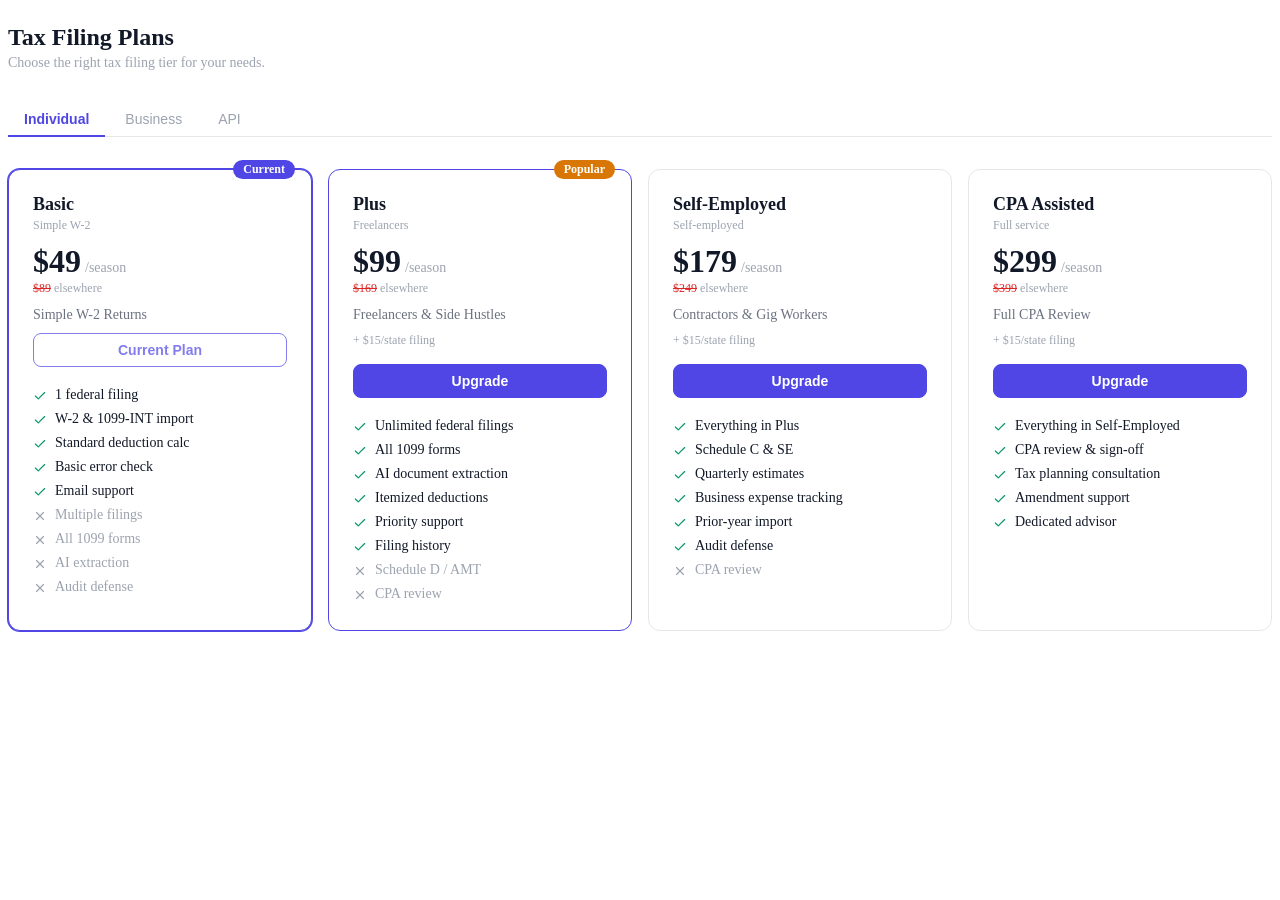
Test case: TaxPricingPage › switches to API tab
Click the tab "API": (230, 120) [202,103,257,137]
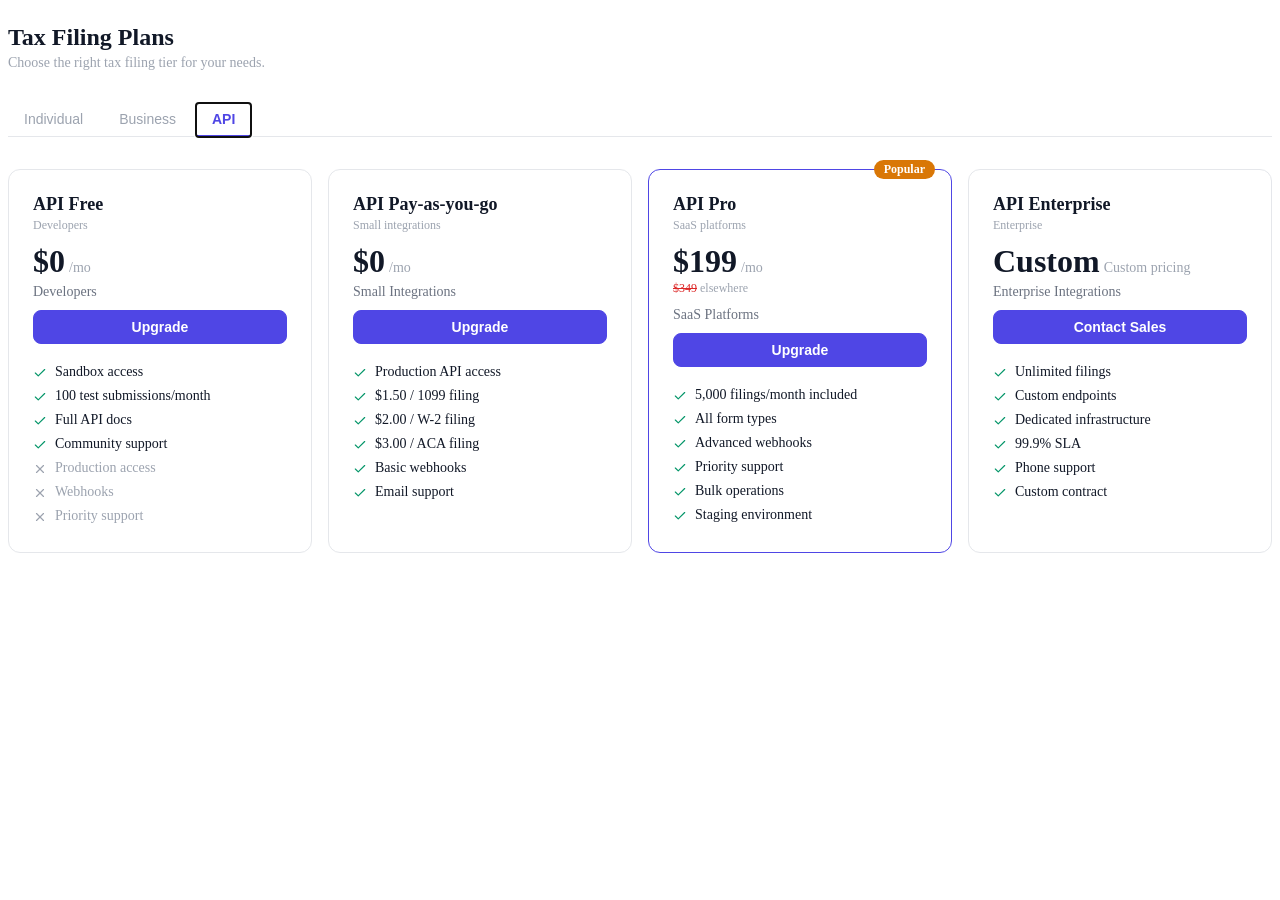
Now the heading "API Free" is shown, box [33,194,103,214]
Now the heading "API Pay-as-you-go" is shown, box [353,194,498,214]
Now the heading "API Pro" is shown, box [673,194,736,214]
